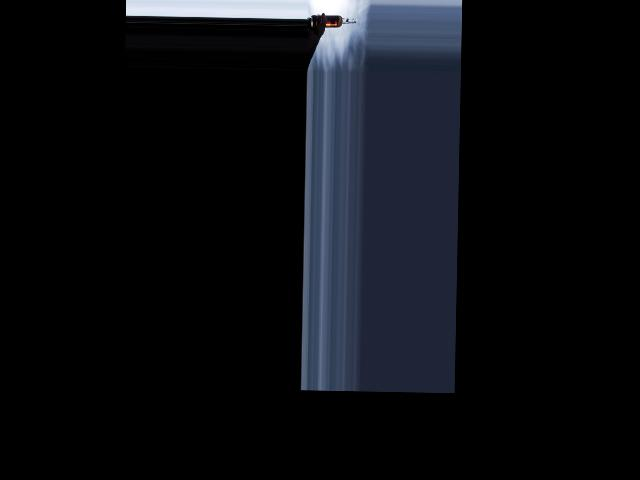beer: (311, 15, 356, 28)
